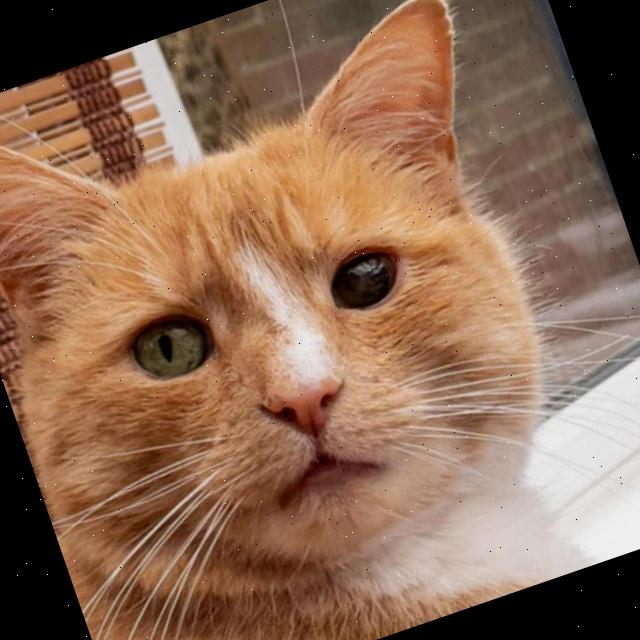cat-eye: (303, 227, 420, 332)
cat-eye-normal: (113, 289, 235, 401)
